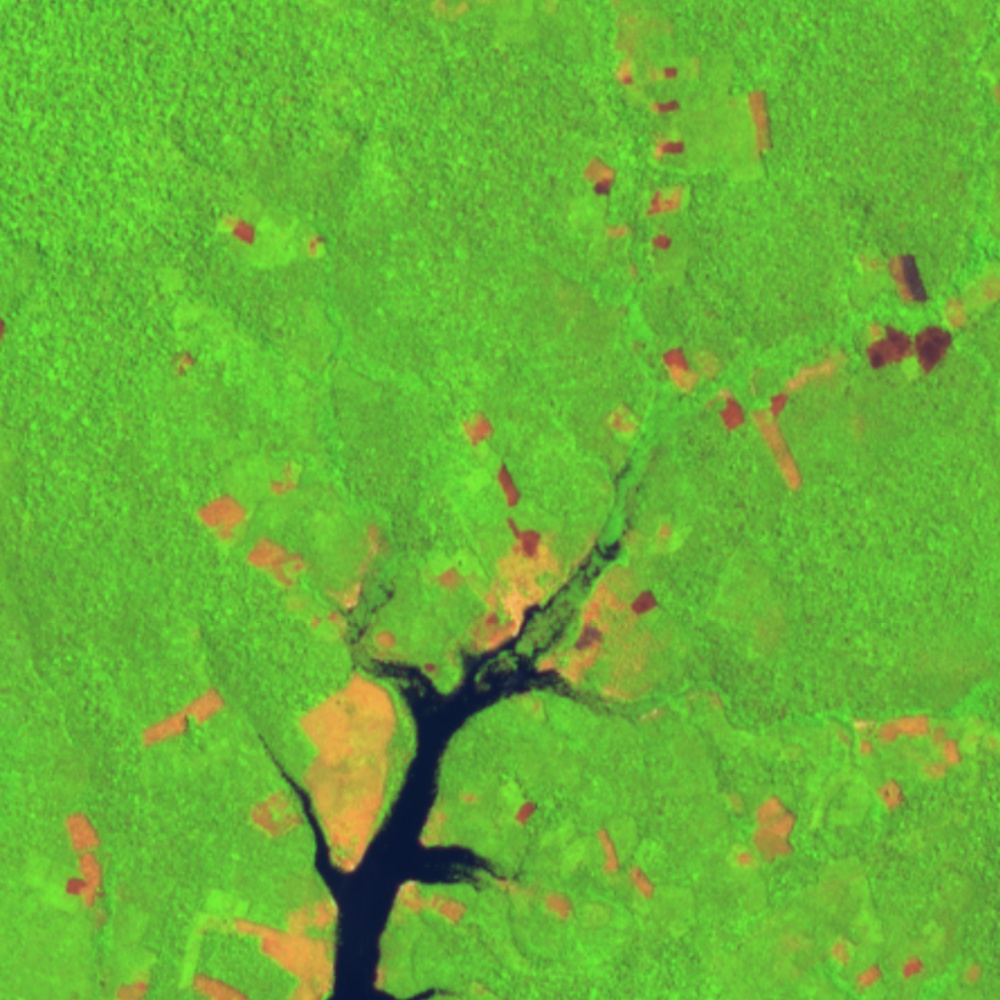legal: (419, 405, 687, 719), (581, 52, 778, 284), (192, 454, 390, 640), (657, 343, 851, 490), (476, 796, 658, 924), (293, 668, 404, 873), (850, 245, 1000, 377), (183, 897, 342, 1000), (780, 931, 988, 995), (837, 710, 966, 808), (721, 786, 804, 879), (214, 207, 331, 267), (141, 682, 230, 745), (63, 812, 109, 920), (392, 879, 470, 928), (249, 783, 306, 838), (114, 956, 157, 1000), (421, 803, 454, 845), (168, 349, 200, 380)
